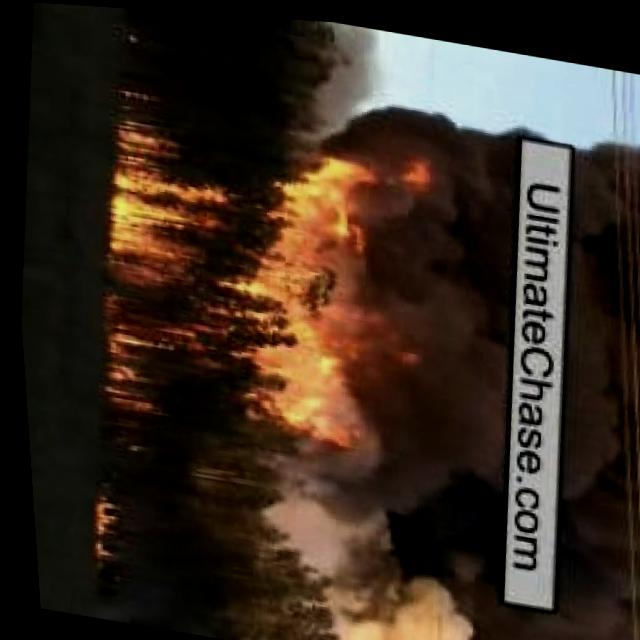helmet: (82, 101, 452, 463), (80, 495, 124, 570)
no_helmet: (391, 107, 545, 640), (518, 124, 640, 640)
